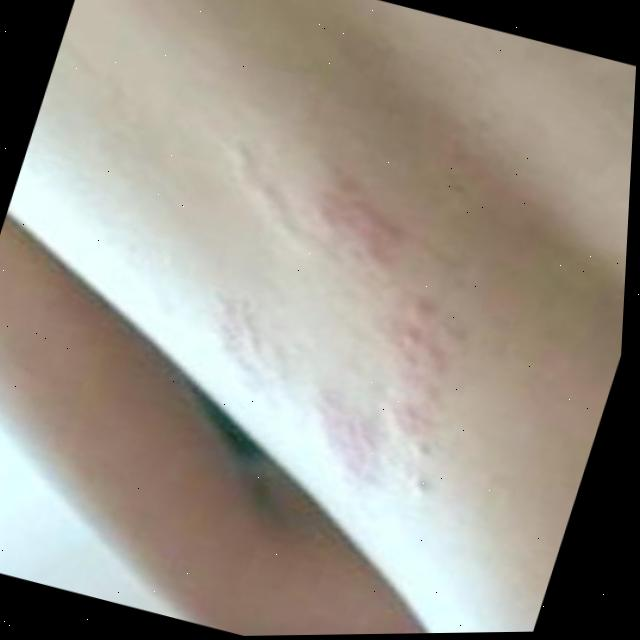Shingles: (125, 126, 529, 514)
